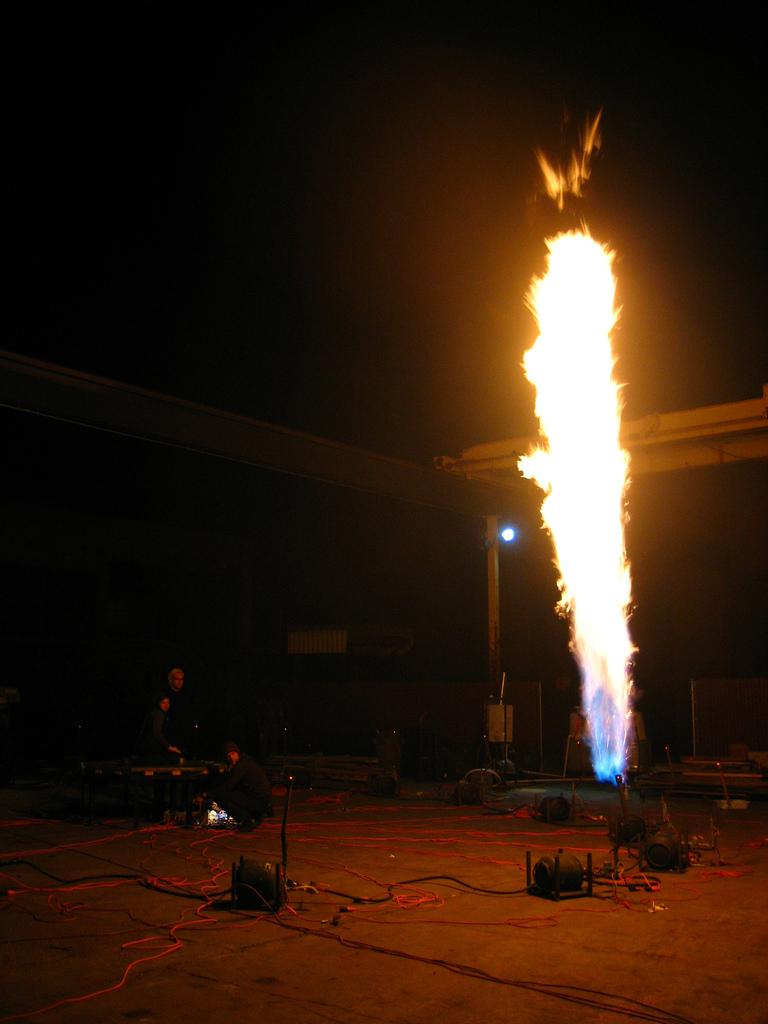fire: (560, 250, 610, 600), (592, 615, 625, 738)
